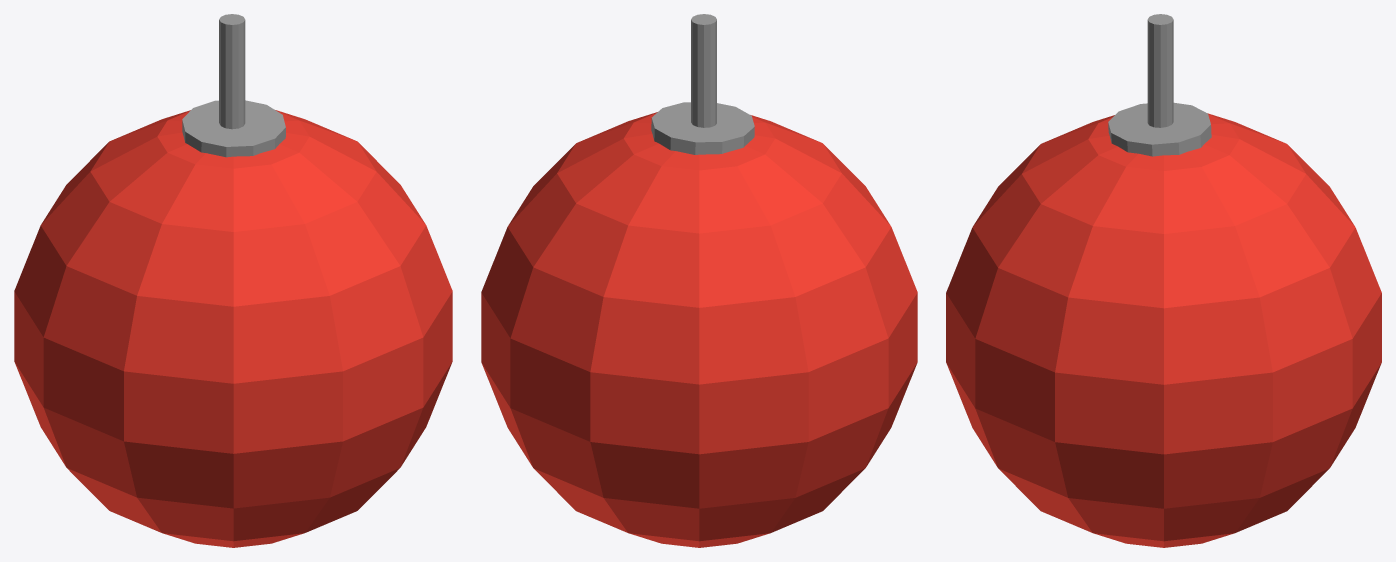
File: red xmas decoration by Justin Randall - 8URMG0bco1d.glb
3 views of the same model, side by side, from view 1: azimuth 30°, elevation 25°; view 2: azimuth 150°, elevation 25°; view 3: azimuth 270°, elevation 25° (orthographic).
Visible parts, largest first — view 1: group1651111481, group844412015, group145974490; view 2: group1651111481, group844412015, group145974490; view 3: group1651111481, group844412015, group145974490.
Part boxes in pixels (x1,y1,x2,y2): group1651111481: (14,110,452,547); group844412015: (182,100,285,157); group145974490: (219,14,245,129); group1651111481: (481,112,917,547); group844412015: (651,102,754,154); group145974490: (691,14,716,127); group1651111481: (946,113,1381,547); group844412015: (1108,102,1211,156); group145974490: (1147,14,1173,127).
Size of the model in its own units: 0.3348 by 0.43 by 0.3348.
